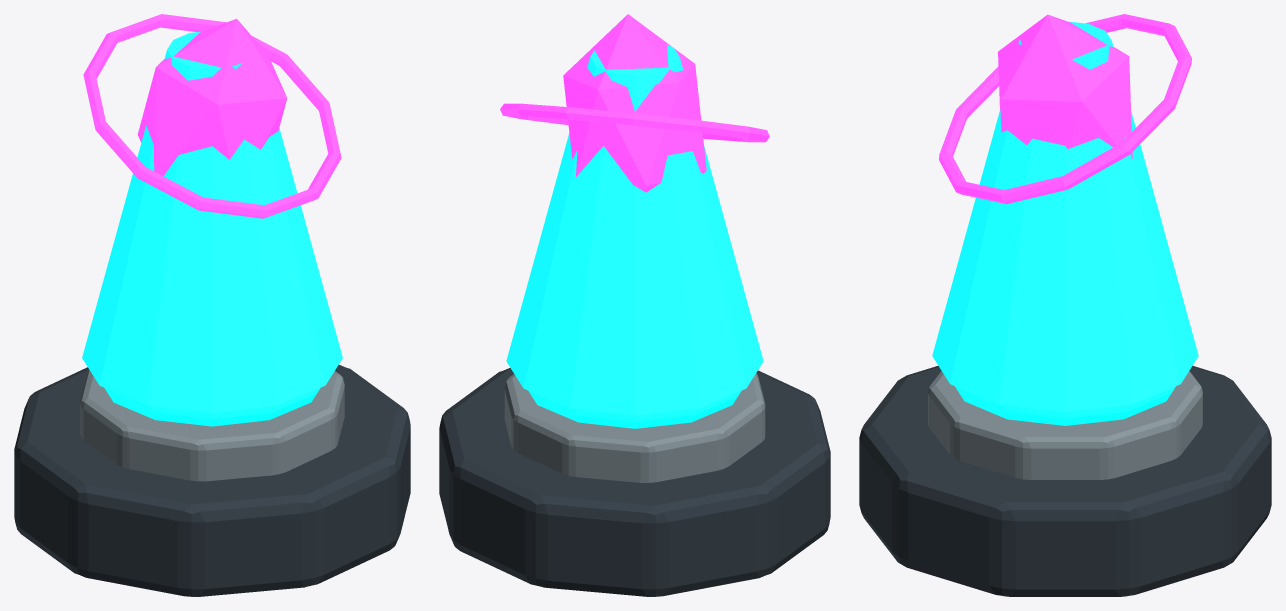
The model's file is Hologram-Projector.glb.
3 views of the same model, side by side, from view 1: azimuth 30°, elevation 25°; view 2: azimuth 150°, elevation 25°; view 3: azimuth 270°, elevation 25° (orthographic). The views are drawn at different scales.
Visible parts, largest first — view 1: Holo_Base, Holo_LightCone, Holo_UpperBase, Holo_Glyph, Holo_Orbit, Holo_CyanRing; view 2: Holo_LightCone, Holo_Base, Holo_UpperBase, Holo_Glyph, Holo_Orbit, Holo_CyanRing; view 3: Holo_Base, Holo_LightCone, Holo_UpperBase, Holo_Glyph, Holo_Orbit, Holo_CyanRing.
Part boxes in pixels (left/top/right/bottom): Holo_Base: left=14, top=364, right=410, bottom=596; Holo_LightCone: left=82, top=31, right=342, bottom=412; Holo_UpperBase: left=80, top=370, right=344, bottom=481; Holo_Glyph: left=137, top=18, right=287, bottom=176; Holo_Orbit: left=83, top=14, right=341, bottom=218; Holo_CyanRing: left=104, top=388, right=320, bottom=426; Holo_LightCone: left=506, top=45, right=763, bottom=415; Holo_Base: left=439, top=368, right=830, bottom=596; Holo_UpperBase: left=504, top=373, right=765, bottom=482; Holo_Glyph: left=563, top=14, right=706, bottom=192; Holo_Orbit: left=500, top=103, right=769, bottom=142; Holo_CyanRing: left=528, top=390, right=741, bottom=428; Holo_Base: left=859, top=366, right=1271, bottom=596; Holo_LightCone: left=932, top=21, right=1198, bottom=412; Holo_UpperBase: left=928, top=371, right=1202, bottom=479; Holo_Glyph: left=998, top=14, right=1132, bottom=159; Holo_Orbit: left=939, top=14, right=1191, bottom=204; Holo_CyanRing: left=955, top=386, right=1175, bottom=425.
Bounding box in the file's own units: 1.37 × 1.95 × 1.42.
